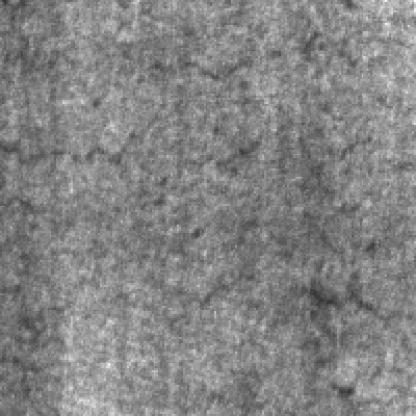crazing: (298, 140, 410, 348), (6, 91, 266, 174)
